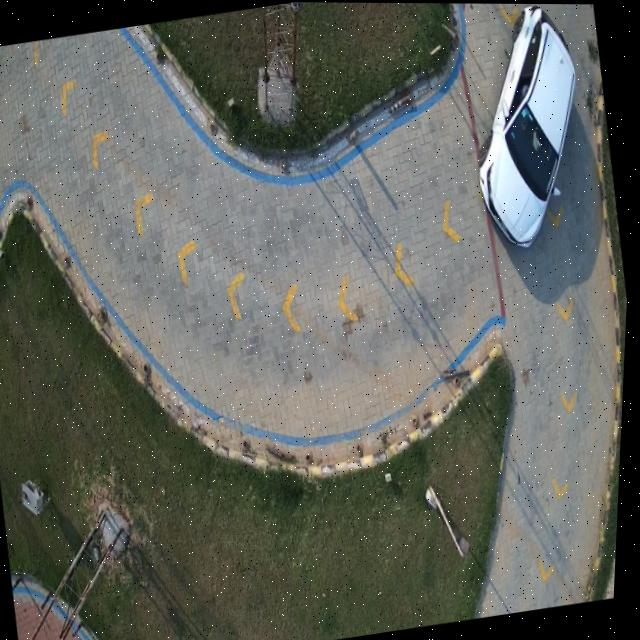car: (481, 5, 579, 248)
